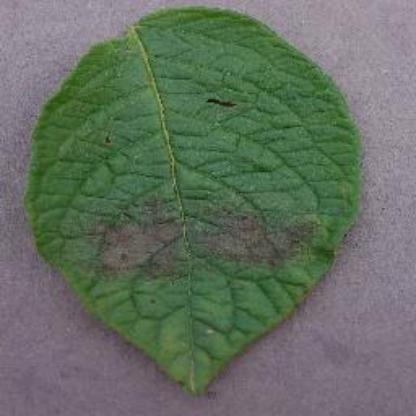Late-Blight: (18, 5, 392, 408)
